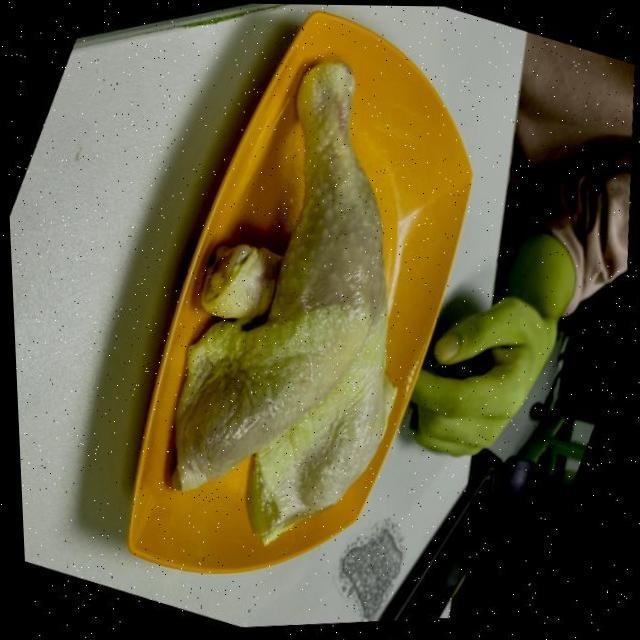quater: (147, 38, 382, 478), (226, 238, 383, 549)
